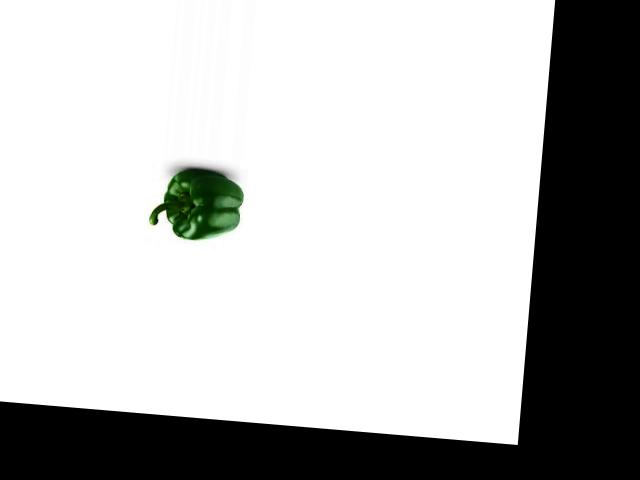bell_pepper: (145, 166, 248, 245)
